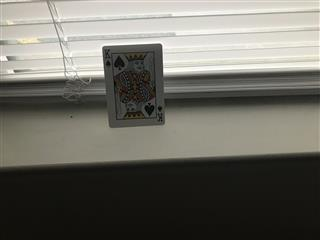KingOfSpades: (101, 42, 166, 127)
